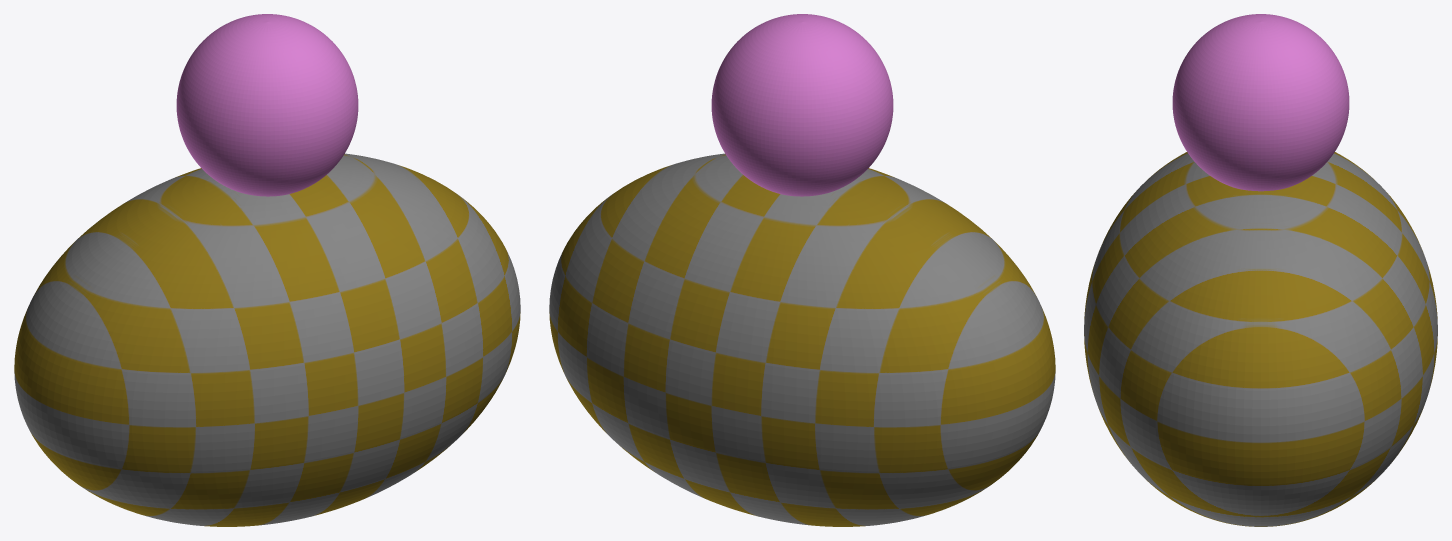
The model's file is BOD1_BMC4_BCC0_BPT4_FRC0_HEA0_HMC10_HCC0_HPT0_ELT0_ERT0_ELL0_ERL0_AP0_AAL0_AAR0_BEK0.fbx.
The picture shows the model from 3 angles, left to right: view 1: azimuth 30°, elevation 25°; view 2: azimuth 150°, elevation 25°; view 3: azimuth 270°, elevation 25°; orthographic projection. The views are drawn at different scales.
Visible parts, largest first — view 1: Body, Head; view 2: Body, Head; view 3: Body, Head.
Part boxes in pixels (<box>): Body: <box>14,153,520,526</box>; Head: <box>176,14,358,196</box>; Body: <box>549,153,1055,526</box>; Head: <box>711,14,893,196</box>; Body: <box>1084,152,1437,526</box>; Head: <box>1172,14,1349,191</box>.
Size of the model in its own units: 148 by 145 by 98.72.
Materials: 2 (2 with a texture image).
